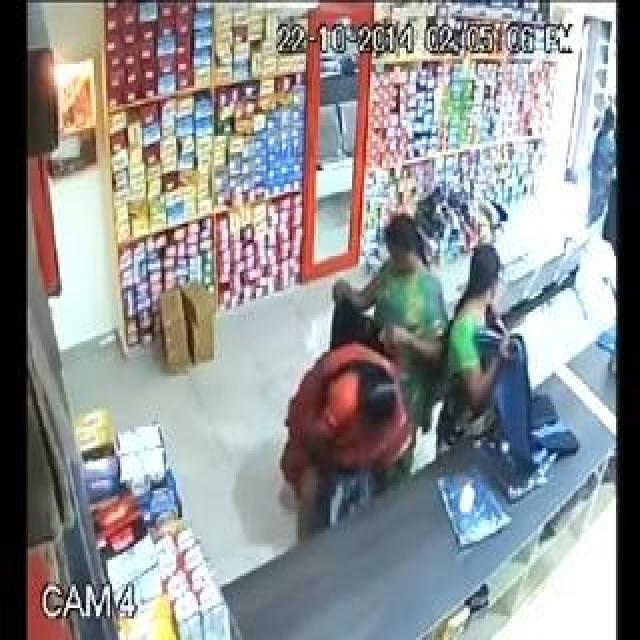Shoplifting: (256, 332, 434, 568)
